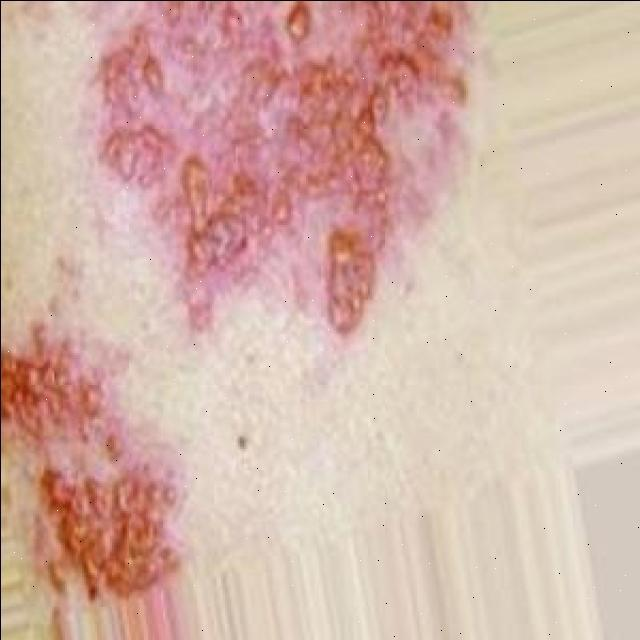Shingles: (90, 0, 467, 340), (0, 331, 184, 589)
